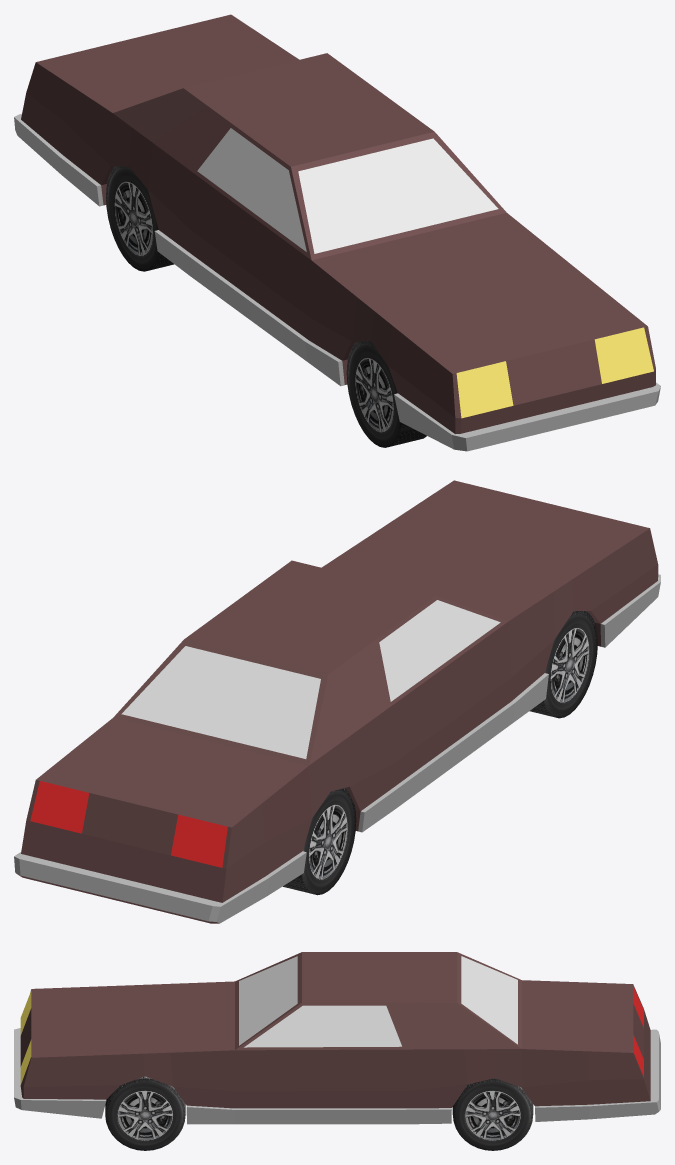
The model's file is coche.fbx.
The picture shows the model from 3 angles, top to bottom: view 1: azimuth 30°, elevation 25°; view 2: azimuth 150°, elevation 25°; view 3: azimuth 270°, elevation 25°; orthographic projection. The views are drawn at different scales.
Visible parts, largest first — view 1: Plano.001; view 2: Plano.001; view 3: Plano.001.
Part boxes in pixels (x1,y1,x2,y2): Plano.001: (14, 14, 660, 451); Plano.001: (14, 480, 660, 923); Plano.001: (14, 952, 660, 1150).
Size of the model in its own units: 132 by 116 by 490.
